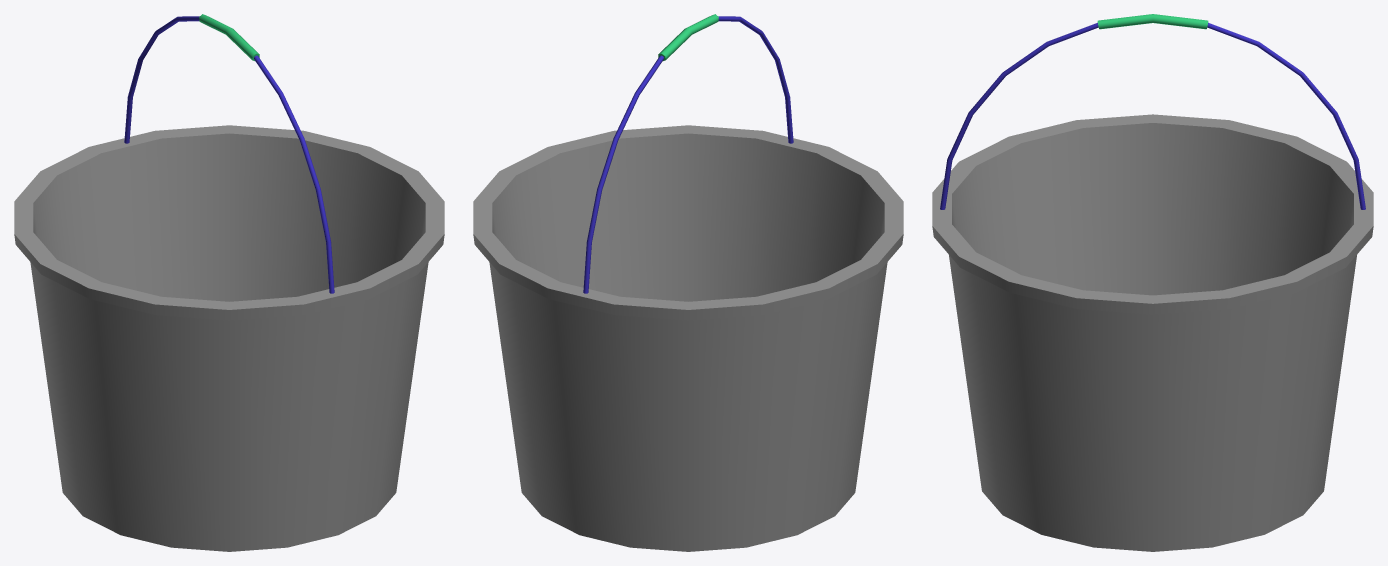
Rendered from Cube_Milk_On.FBX.
3 views of the same model, side by side, from view 1: azimuth 30°, elevation 25°; view 2: azimuth 150°, elevation 25°; view 3: azimuth 270°, elevation 25° (orthographic). The views are drawn at different scales.
Parts seen in each view (by area): view 1: Cubeta, SotenCubeta; view 2: Cubeta, SotenCubeta; view 3: Cubeta, SotenCubeta.
Part boxes in pixels (x1,y1,x2,y2): Cubeta: (14, 125, 444, 551); SotenCubeta: (124, 14, 334, 293); Cubeta: (473, 125, 903, 551); SotenCubeta: (583, 14, 793, 293); Cubeta: (932, 114, 1373, 551); SotenCubeta: (940, 14, 1365, 209).
Size of the model in its own units: 61.46 by 70.35 by 60.52.
